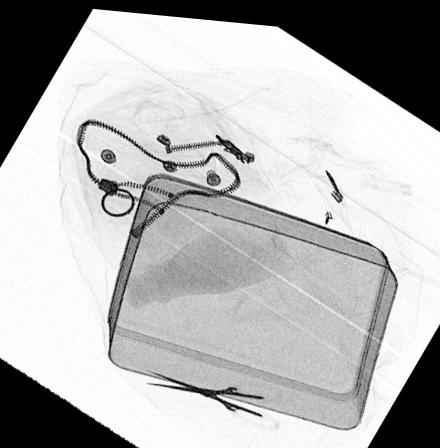Scissors: (144, 367, 287, 429)
